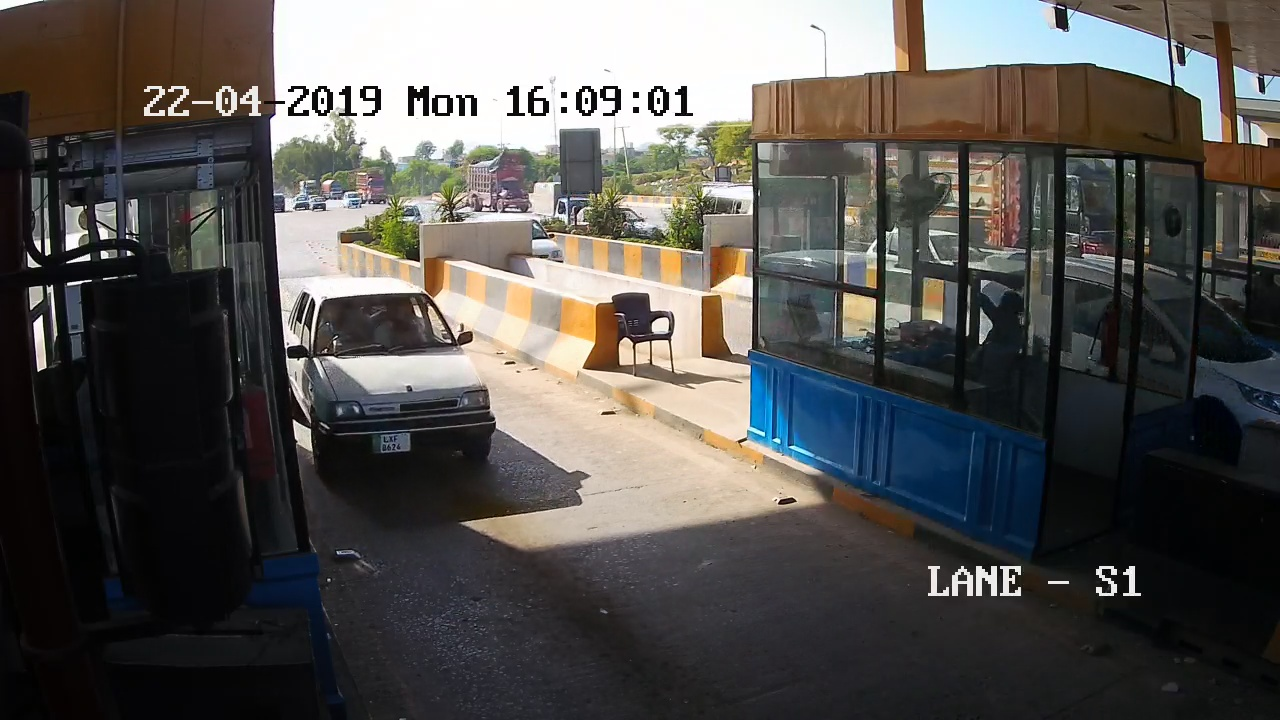Number Plate (Car): (369, 433, 412, 452)
